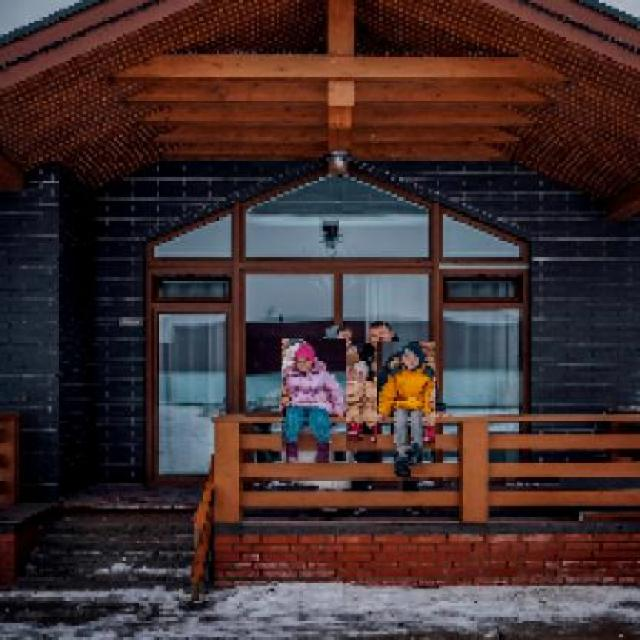child: (280, 338, 346, 464), (376, 342, 436, 478), (334, 358, 389, 442)
